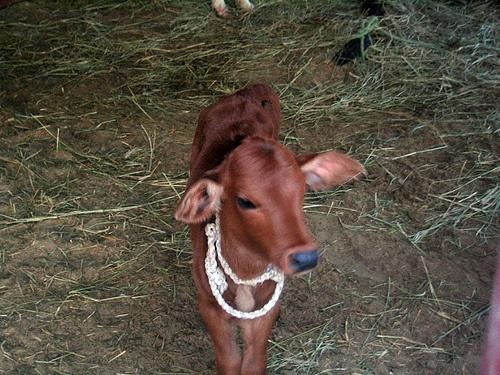cow: (174, 82, 369, 375)
